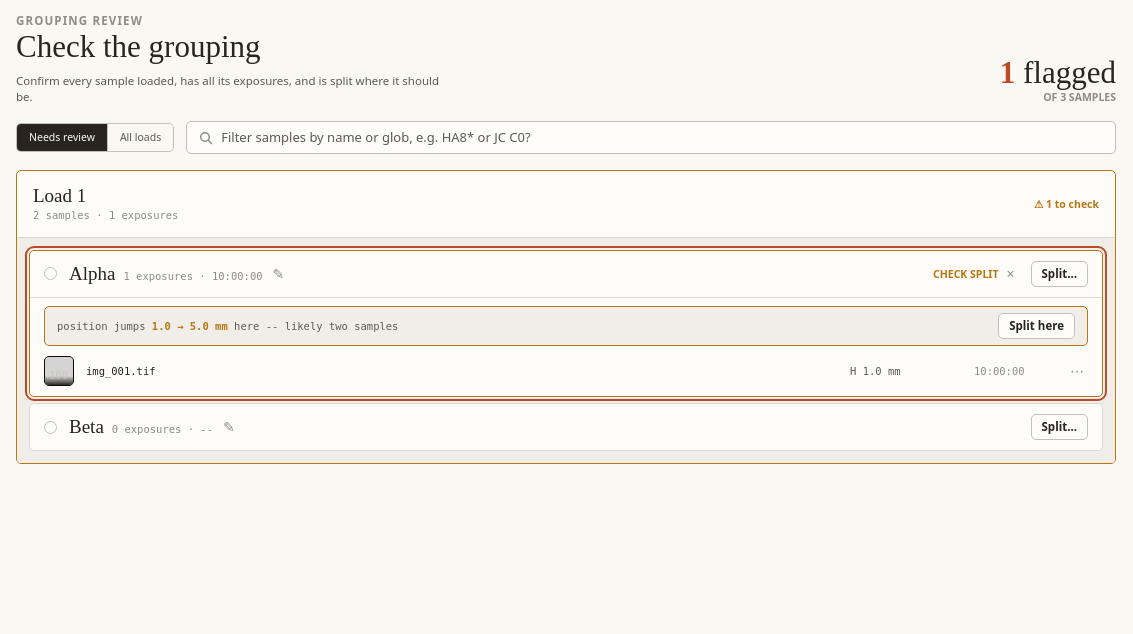
Test: GroupingReviewPage — Move picker › after selecting a destination the picker menu is dismissed
The image size is (1133, 634).
What coordinates should you click on to do the following:
click the button "All loads"
I would click on:
 (141, 138)
Its box is [108,124,173,151].
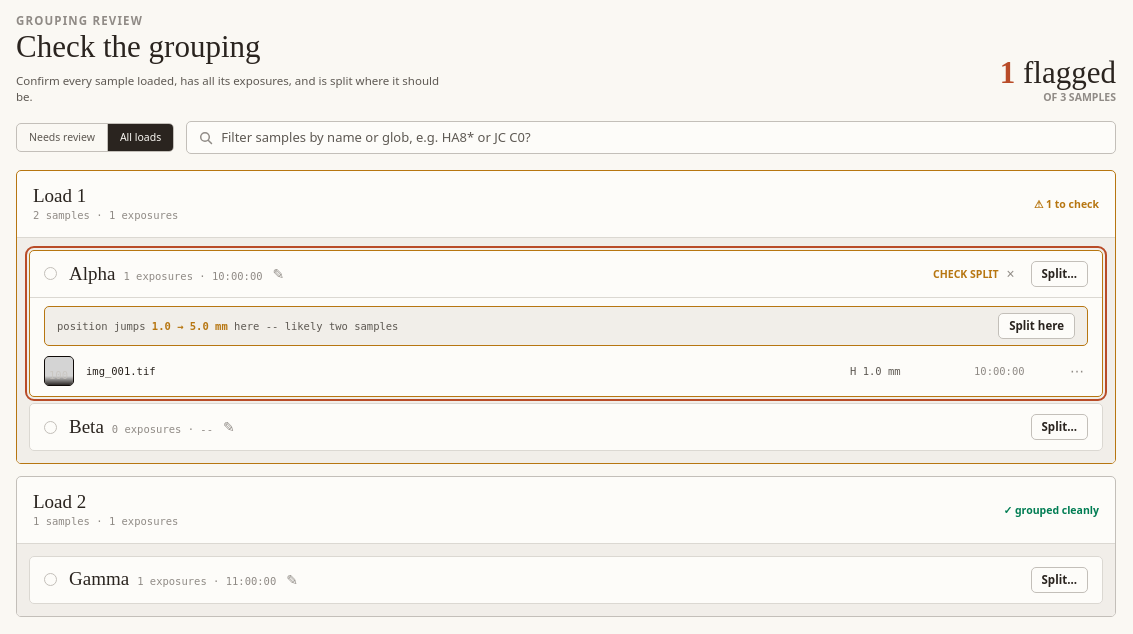
What coordinates should you click on to do the following:
click the button named "move to another sample"
I would click on:
 (1077, 371)
Its box is [1066,360,1088,382].
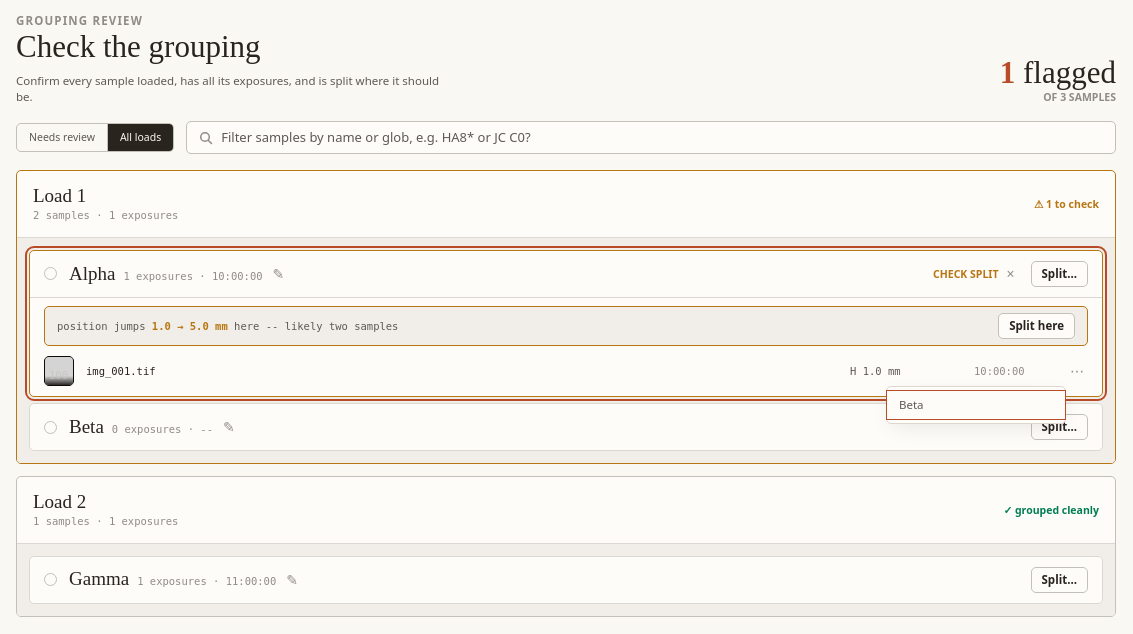
What coordinates should you click on to do the following:
click the menu item "Beta"
I would click on:
 (976, 405)
Its box is [887,391,1065,419].
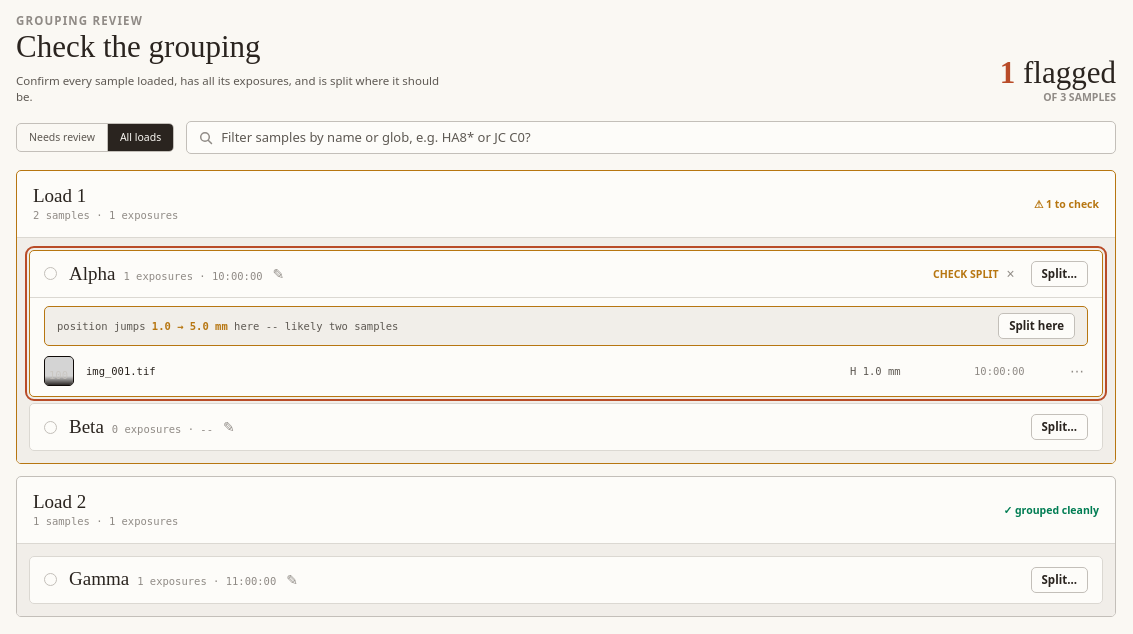
Expected: the menu is gone
